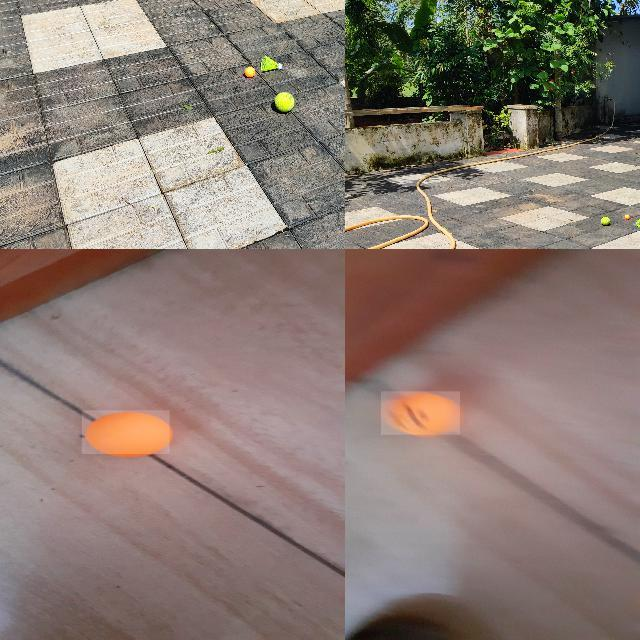ping-pong-ball: (82, 410, 171, 455), (381, 392, 462, 436), (244, 66, 254, 78), (622, 214, 630, 220)
